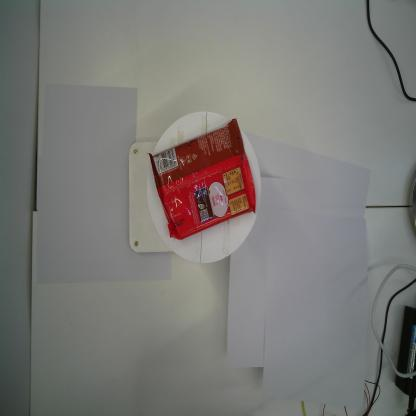Dessert: (146, 118, 256, 241)
